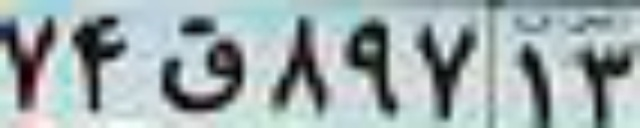1: (516, 44, 554, 127)
3: (578, 40, 634, 127)
4: (69, 14, 132, 112)
7: (409, 18, 485, 122), (1, 13, 59, 114)
8: (269, 13, 328, 114)
9: (341, 16, 398, 116)
ghaf: (156, 14, 245, 113)
